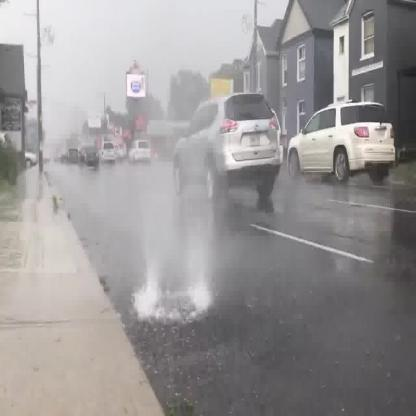drainage overflow-repair-: (112, 228, 232, 332)
